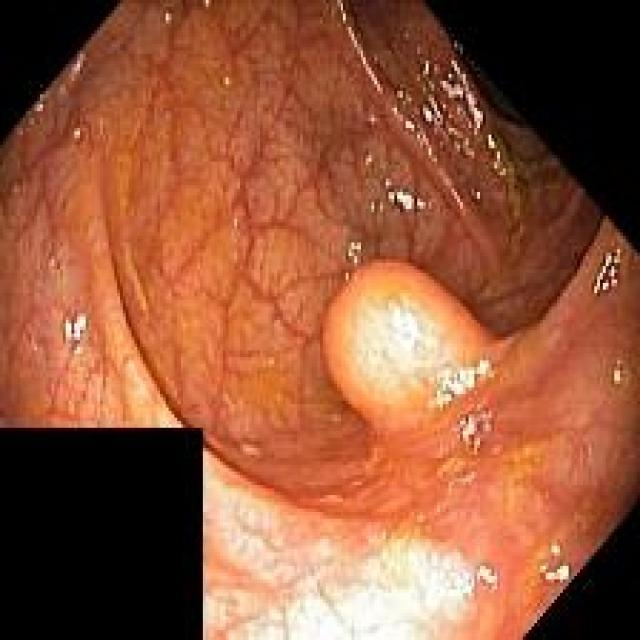Polyps: (324, 261, 494, 431)
